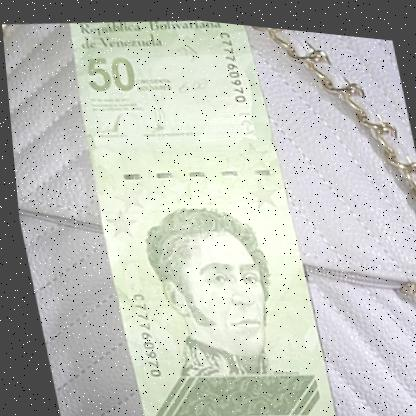fifty-front-vef: (56, 5, 331, 416)
